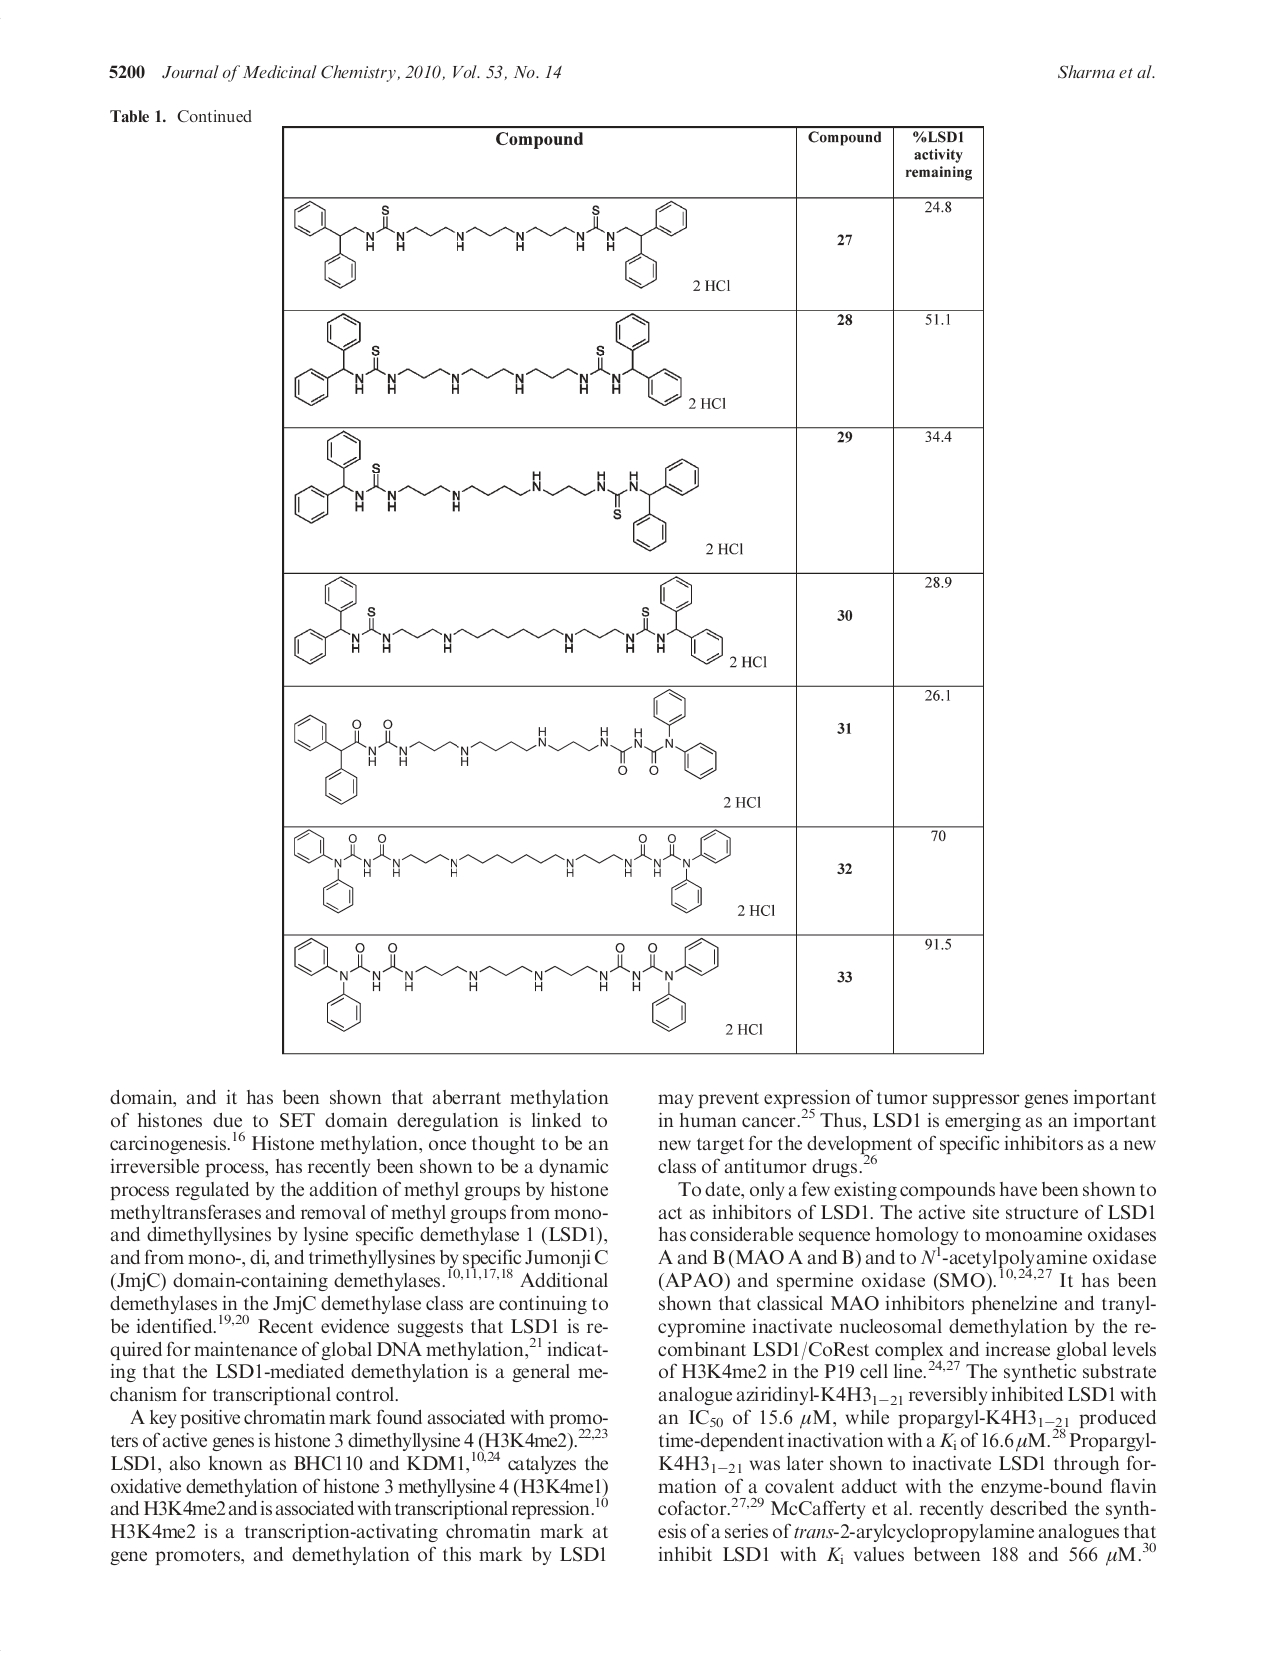exist_molecular: (293, 689, 718, 809), (293, 432, 702, 555), (286, 938, 731, 1036), (294, 575, 731, 670), (286, 829, 735, 918), (294, 311, 689, 408), (291, 199, 693, 293)
